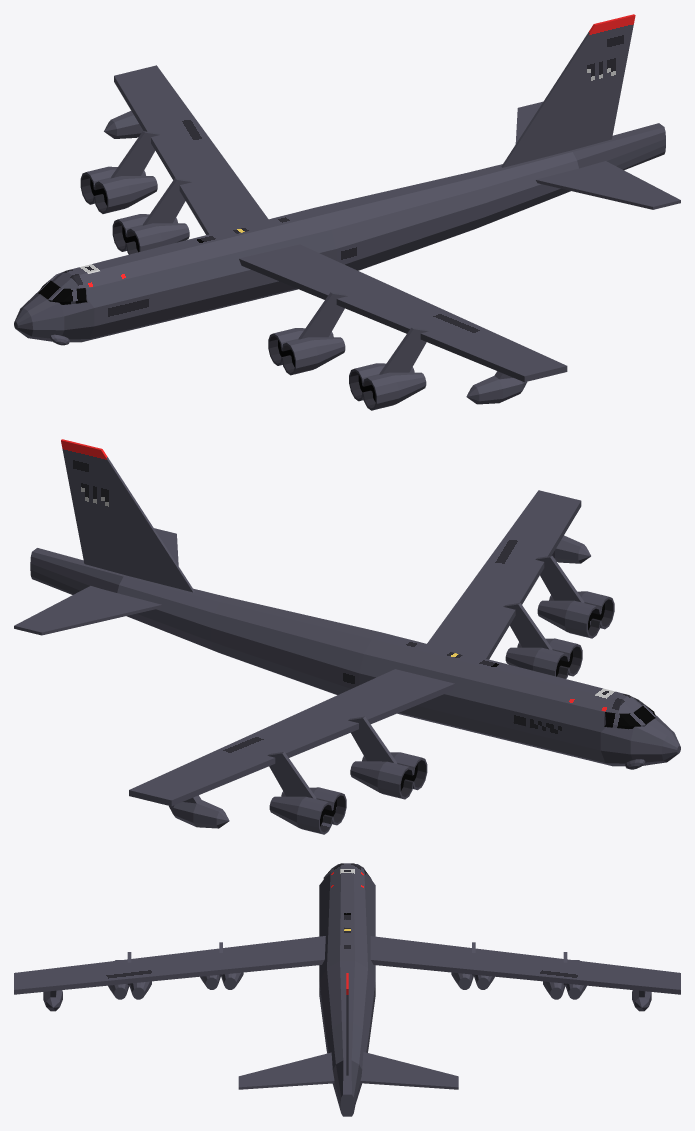
3 renders of one model, top to bottom at view 1: azimuth 30°, elevation 25°; view 2: azimuth 150°, elevation 25°; view 3: azimuth 270°, elevation 25°, orthographic. The views are drawn at different scales.
Parts seen in each view (by area): view 1: cylinder; view 2: cylinder; view 3: cylinder.
Part boxes in pixels (x1,y1,x2,y2): cylinder: [14, 14, 680, 410]; cylinder: [14, 439, 680, 834]; cylinder: [14, 863, 680, 1116].
Size of the model in its own units: 9.88 by 2.81 by 10.88.
1 material, 1 textured.
